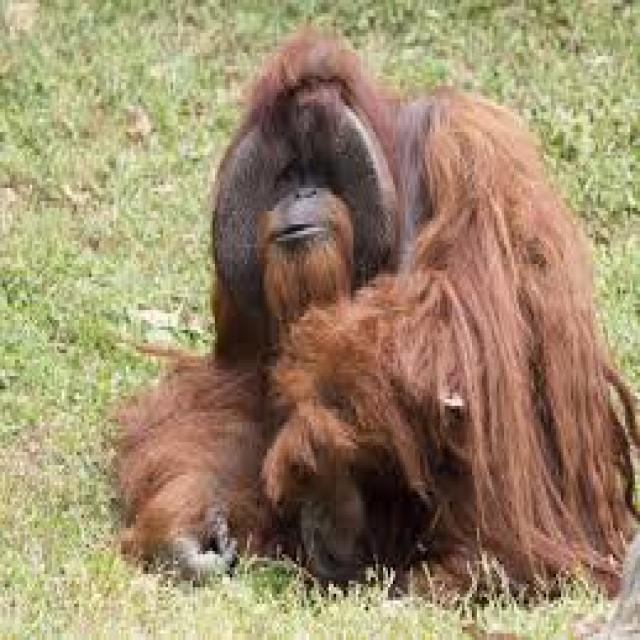Orangutan: (122, 47, 622, 598)
